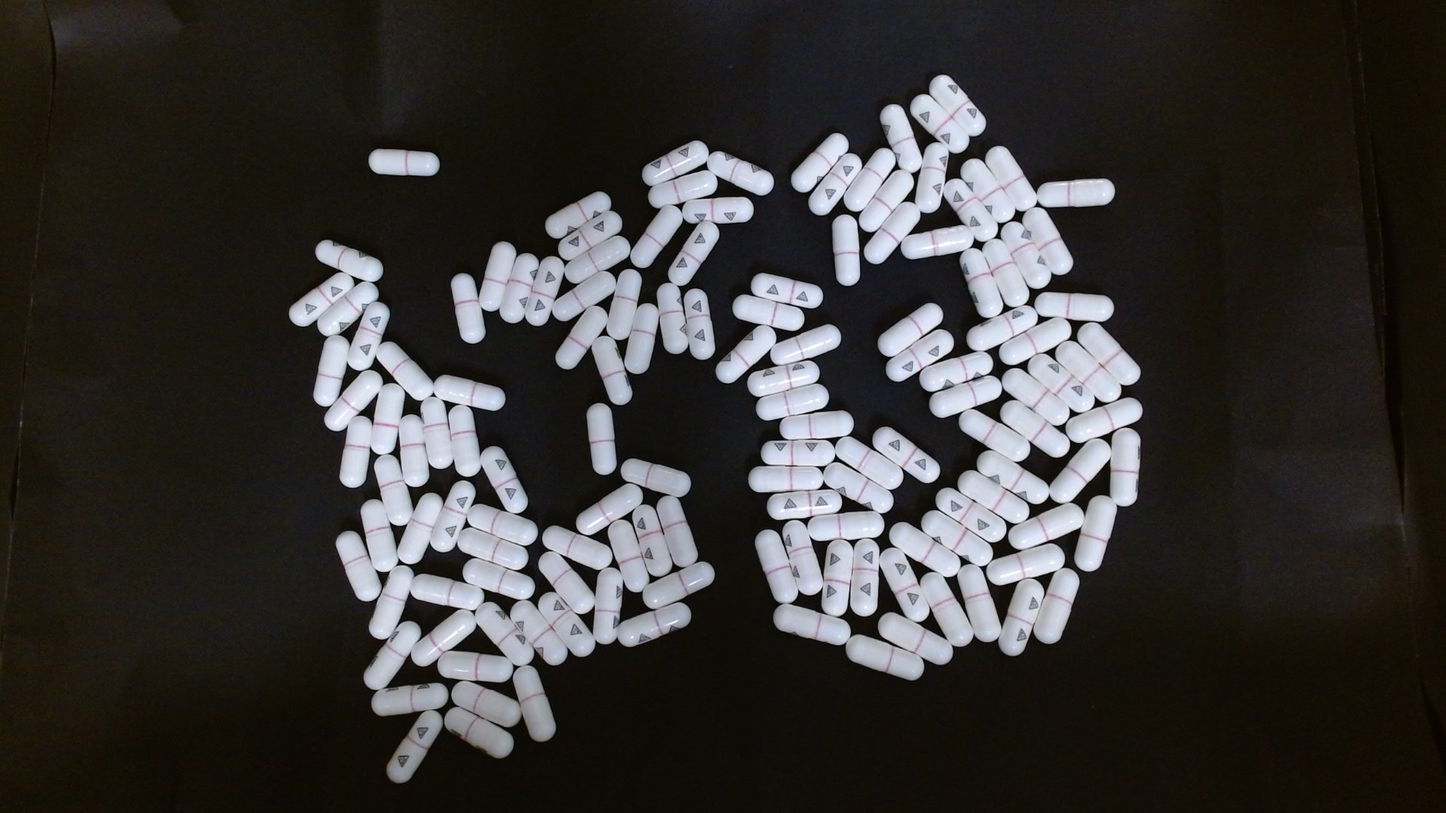Capsule: (920, 507, 996, 569), (385, 708, 445, 785), (361, 619, 423, 693), (473, 601, 538, 671), (975, 448, 1051, 507), (956, 468, 1033, 526), (888, 521, 963, 580), (1054, 341, 1123, 405), (1026, 350, 1096, 413), (999, 399, 1071, 460), (961, 410, 1038, 467), (1048, 437, 1112, 505), (408, 607, 477, 670), (845, 632, 926, 685), (995, 576, 1048, 657), (935, 488, 1010, 545), (877, 547, 932, 624), (833, 433, 906, 491), (1075, 321, 1141, 385), (538, 551, 599, 620), (872, 425, 942, 485), (285, 271, 357, 329), (907, 90, 972, 154), (918, 571, 972, 648), (928, 73, 989, 139), (1001, 367, 1071, 424), (509, 599, 569, 665), (958, 158, 1017, 225), (1005, 503, 1084, 553), (538, 591, 596, 659), (985, 145, 1041, 215), (444, 705, 515, 760), (877, 612, 949, 666), (997, 316, 1073, 367), (824, 463, 897, 516), (316, 280, 385, 336), (789, 132, 850, 195), (877, 301, 944, 358), (1023, 206, 1075, 279), (842, 150, 897, 219), (883, 326, 954, 379), (1032, 568, 1080, 646), (397, 484, 445, 562), (716, 323, 778, 383), (325, 369, 382, 434), (942, 177, 998, 243), (556, 305, 609, 374), (863, 202, 920, 266), (859, 167, 915, 232), (615, 601, 694, 647), (641, 561, 715, 610), (981, 237, 1032, 308), (576, 482, 643, 536), (967, 304, 1042, 352), (630, 206, 687, 269), (956, 565, 1001, 644), (1068, 397, 1142, 445), (428, 480, 476, 554), (1001, 220, 1051, 291), (987, 541, 1065, 586), (551, 270, 617, 323), (334, 530, 380, 606), (378, 342, 435, 403), (477, 445, 528, 513), (607, 519, 652, 596), (809, 152, 864, 215), (773, 603, 853, 646), (449, 681, 522, 728), (368, 562, 413, 638), (959, 245, 1005, 319), (556, 210, 624, 260), (1073, 494, 1116, 572), (467, 500, 538, 547), (346, 300, 393, 371), (782, 519, 824, 598), (513, 665, 556, 742), (455, 527, 530, 571), (544, 190, 614, 237), (918, 350, 992, 394), (564, 236, 630, 285), (541, 524, 611, 570), (641, 140, 712, 185), (315, 239, 385, 284), (461, 555, 534, 598), (754, 529, 796, 603), (656, 494, 698, 568), (668, 222, 718, 284), (929, 376, 1001, 419), (523, 255, 565, 328), (590, 336, 633, 405), (622, 300, 661, 376), (709, 151, 774, 196), (477, 239, 517, 312), (769, 324, 840, 365), (358, 499, 396, 575), (375, 450, 412, 528), (499, 251, 539, 323), (372, 385, 407, 467), (631, 504, 670, 577), (878, 104, 921, 170), (899, 224, 975, 261), (437, 648, 515, 684), (621, 458, 691, 498), (410, 571, 478, 612), (338, 416, 374, 493), (433, 374, 504, 413), (751, 359, 825, 396), (913, 141, 950, 215), (372, 681, 448, 717), (822, 537, 855, 619), (756, 385, 831, 421), (647, 168, 716, 207), (313, 336, 351, 406), (450, 273, 486, 346), (733, 294, 806, 330), (749, 272, 822, 308), (1034, 291, 1115, 323), (849, 536, 881, 617), (447, 403, 481, 479), (420, 396, 454, 472), (807, 510, 883, 543), (1036, 178, 1116, 209), (766, 489, 845, 520), (1109, 428, 1141, 504), (586, 403, 619, 476), (592, 568, 625, 641), (682, 287, 714, 362), (398, 413, 430, 487), (779, 409, 855, 440), (609, 269, 642, 340), (657, 282, 689, 355), (759, 437, 835, 467), (749, 464, 824, 493), (831, 214, 859, 286), (685, 196, 754, 225), (368, 148, 439, 176)
